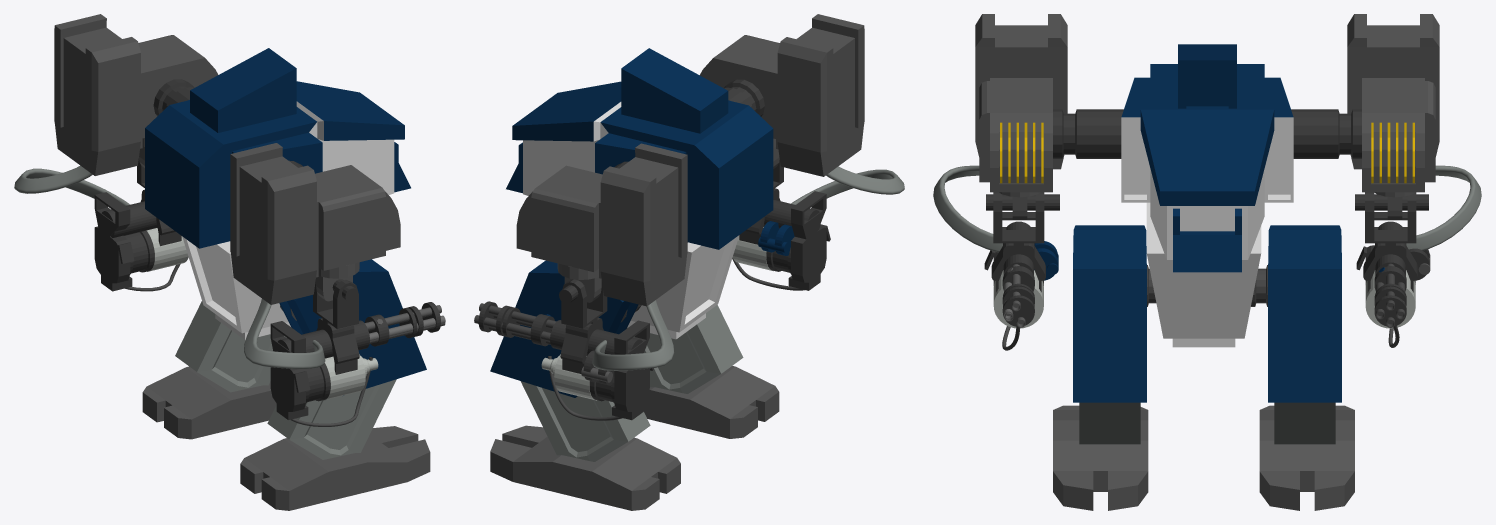
The model's file is MechWithMachineGun (1).fbx.
3 renders of one model, left to right at view 1: azimuth 30°, elevation 25°; view 2: azimuth 150°, elevation 25°; view 3: azimuth 270°, elevation 25°, orthographic. The views are drawn at different scales.
Visible parts, largest first — view 1: Mechwithmachinegun; view 2: Mechwithmachinegun; view 3: Mechwithmachinegun.
Part boxes in pixels (left/top/right/bottom): Mechwithmachinegun: left=14, top=14, right=445, bottom=510; Mechwithmachinegun: left=474, top=14, right=904, bottom=510; Mechwithmachinegun: left=933, top=14, right=1481, bottom=510.
Bounding box in the file's own units: 560 × 781 × 958.
